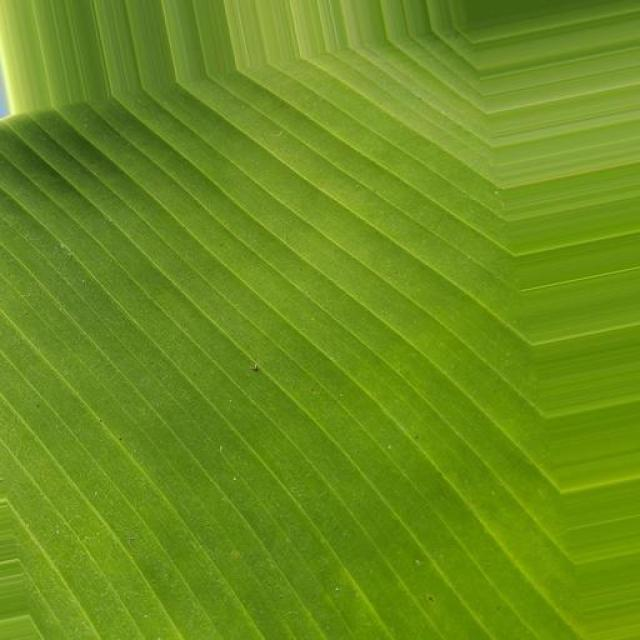Black_leaf_spot: (0, 0, 583, 625)
